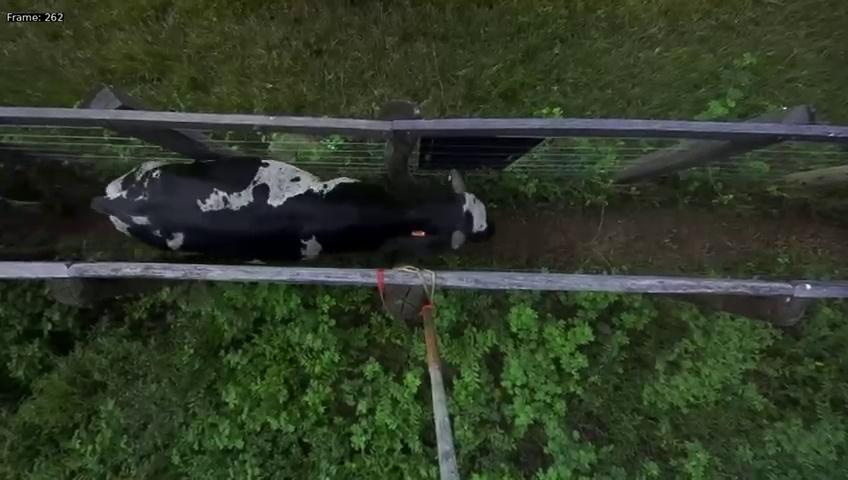cattle: (94, 146, 496, 272)
